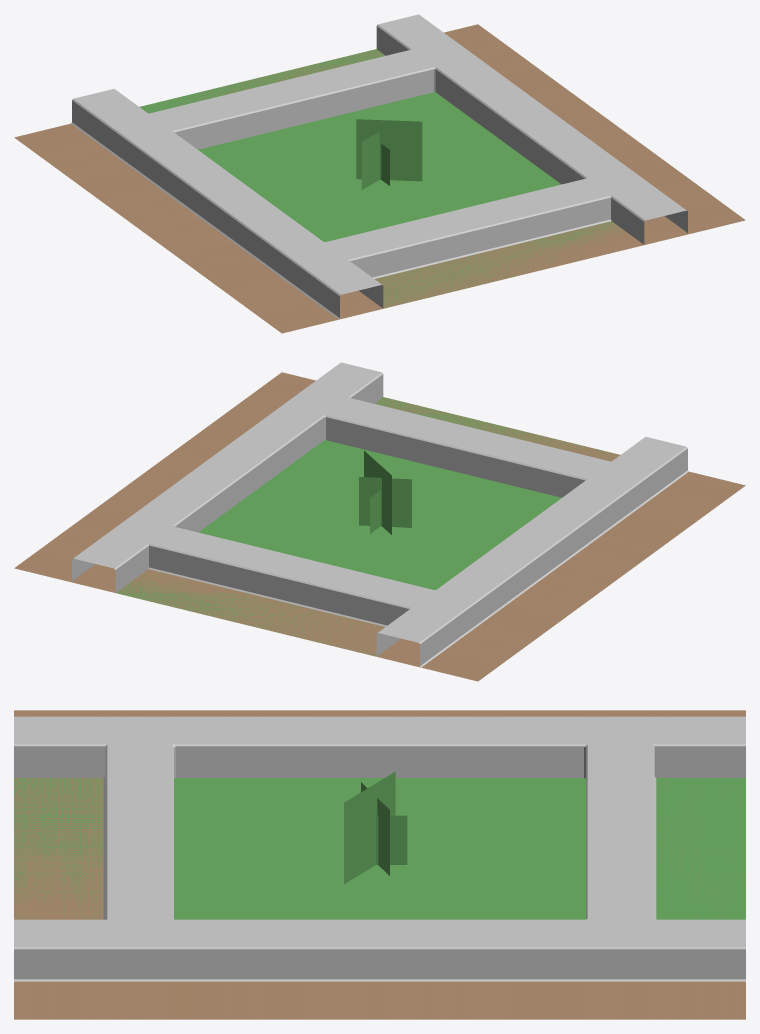
The model's file is Ground_Grass (3).fbx.
3 renders of one model, top to bottom at view 1: azimuth 30°, elevation 25°; view 2: azimuth 150°, elevation 25°; view 3: azimuth 270°, elevation 25°, orthographic. The views are drawn at different scales.
Parts seen in each view (by area): view 1: Left, Right, Middle, Grass; view 2: Right, Left, Middle, Grass; view 3: Left, Right, Middle, Grass.
Boxes of the visible parts, x1,y1,x2,y2 form: Left: (14,14,745,333); Right: (15,24,743,332); Middle: (16,15,741,316); Grass: (356,119,422,189); Right: (16,362,743,680); Left: (14,372,745,681); Middle: (72,362,687,680); Grass: (359,450,411,534); Left: (14,710,745,1019); Right: (14,710,745,1019); Middle: (14,711,745,1017); Grass: (344,771,407,884).
Size of the model in its own units: 100 by 12.32 by 100.
